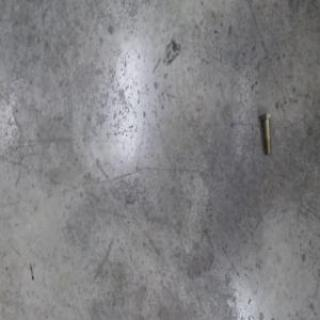Bolttrack_idkeyframe: (260, 110, 272, 155)
